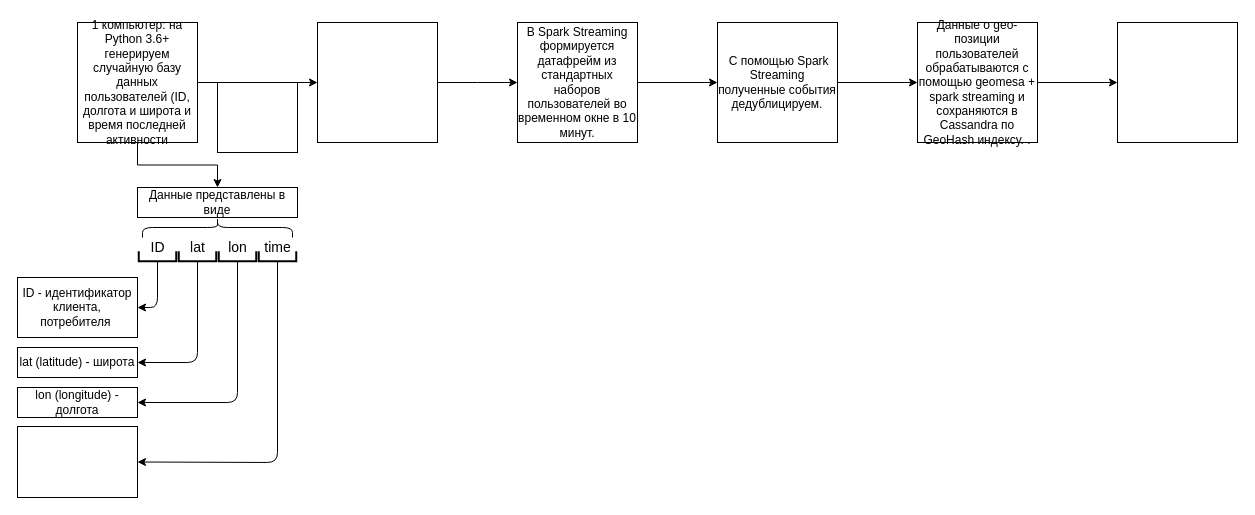
Image size: 1255x515. Some labels were removed from this diagram. Each missing label, with the box of its shape:
Apache Kafka для обмена сообщениями между 1 и 2 компьютерами: (216, 82, 298, 152)
Profit: (1116, 22, 1238, 142)
time - время, в которое абонент вышел на связь: (16, 426, 138, 498)
На 2 компьютере: в Spark реализуем механизм считывания данных из Kafka: (316, 22, 438, 142)
